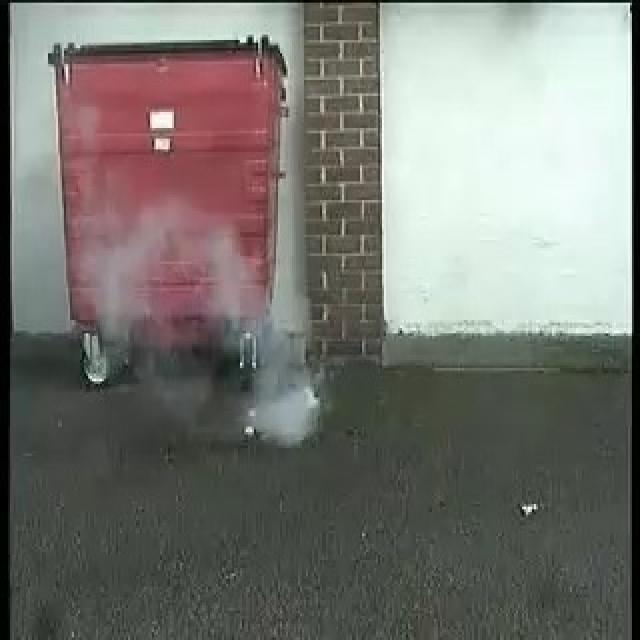smoke: (204, 236, 322, 448)
